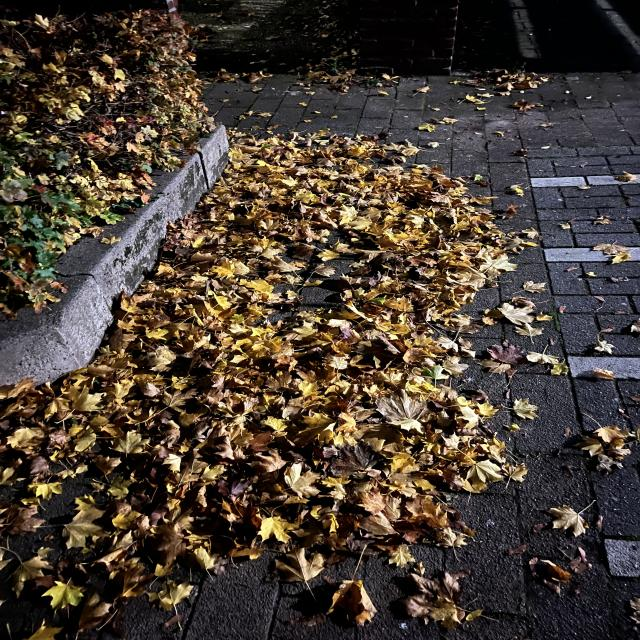leaves: (229, 132, 508, 482), (136, 208, 244, 590), (0, 377, 154, 637), (246, 487, 459, 570)
pavement: (181, 4, 639, 639)
plants: (3, 15, 208, 284)
